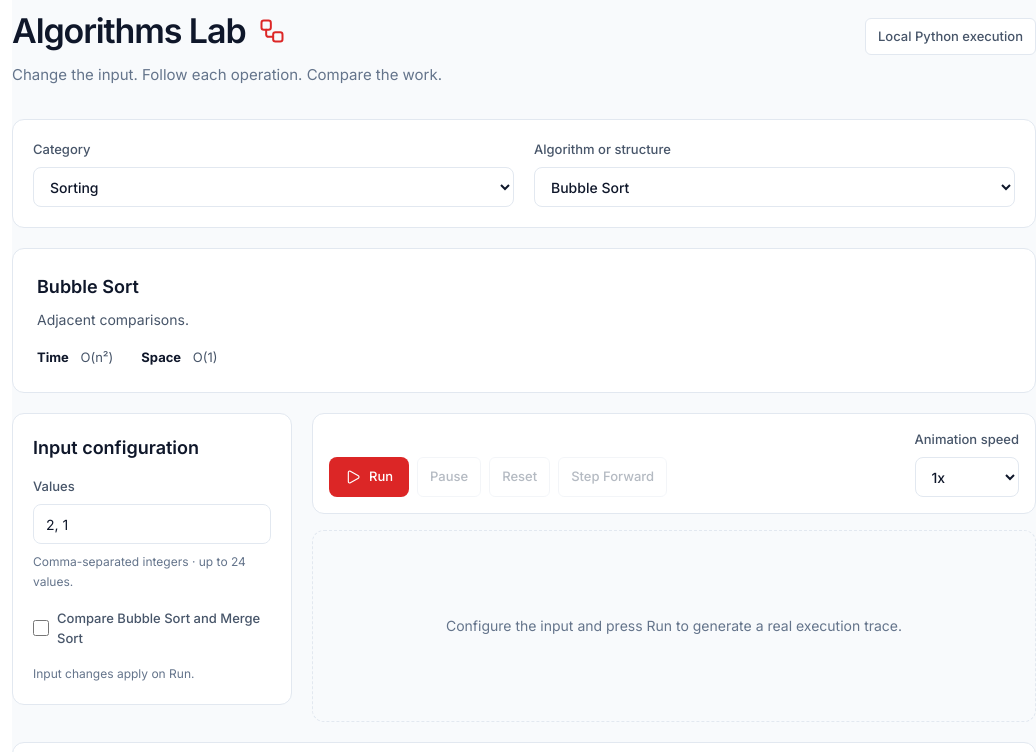
Test: structure operations can be configured and changing algorithms clears prior playback
The width and height of the screenshot is (1036, 752).
Later steps or results of the test are not shown.
Select "Data structures" in the dropdown labelled "Category" at (274,187), box [33, 167, 514, 207]
(page scrolled)
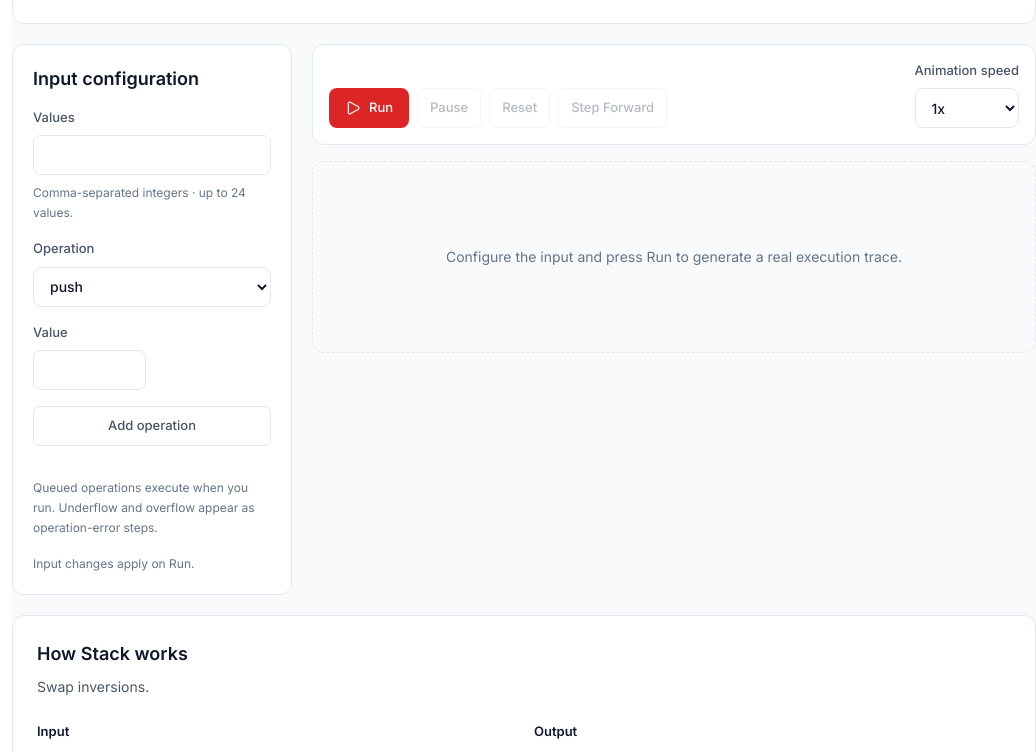
Type "7" into the field named "Operation value" at (90,370), box [33, 350, 146, 390]
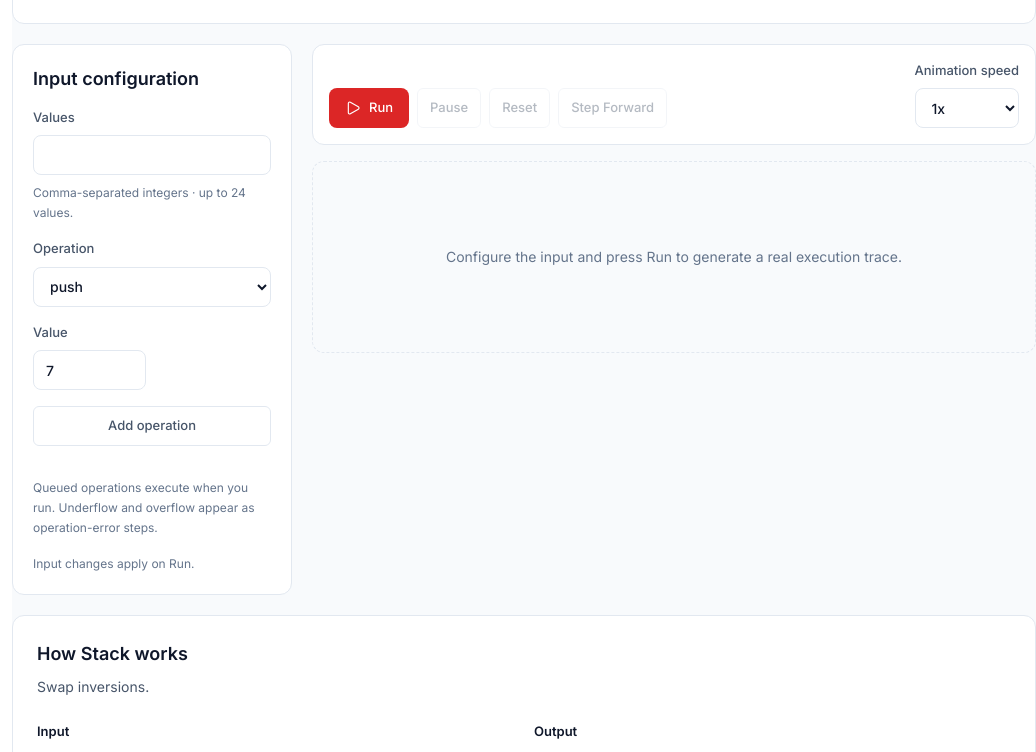
Click the button "Add operation" at (152,426), box [33, 406, 271, 446]
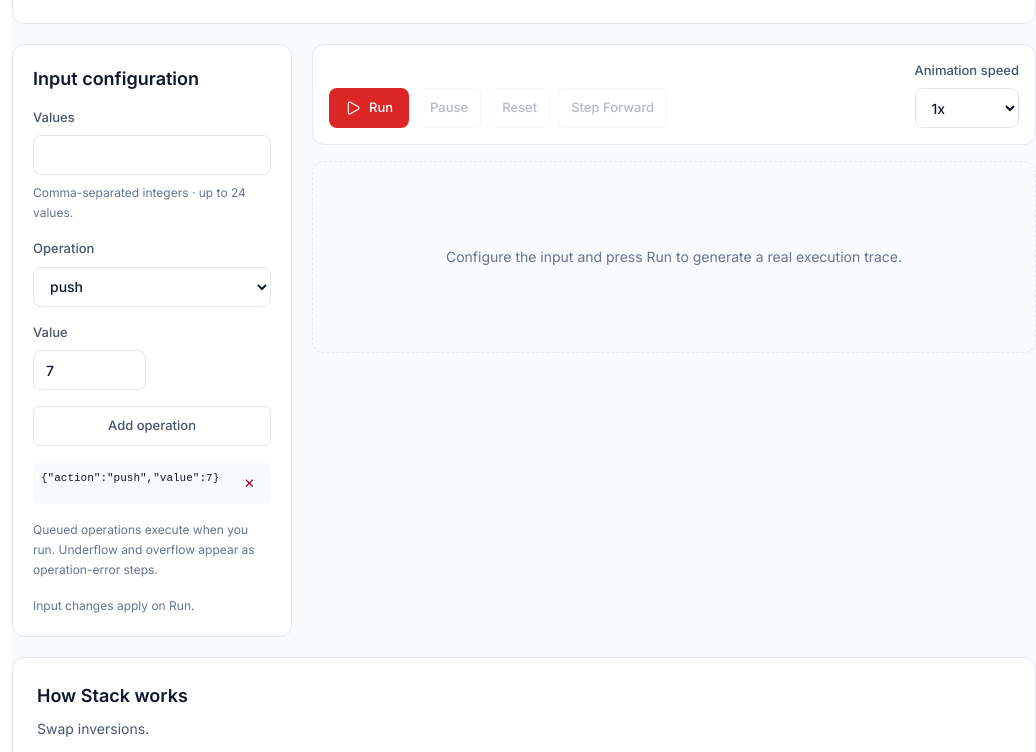
Check: the text "{\"action\":\"push\",\"value\":7}" is shown, box [41, 470, 228, 486]
